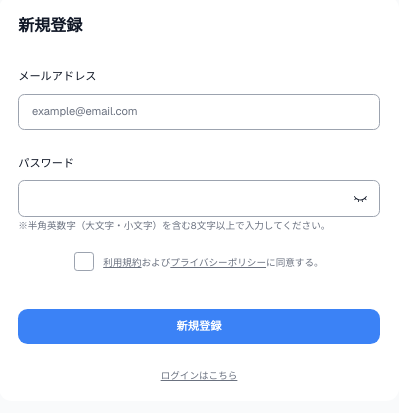
SignUpForm › 利用規約・プライバシーポリシーに同意せずに送信するとエラーメッセージが表示され、signUpActionは呼ばれない
The image size is (399, 413).
Type "valid@example.com" into the field labelled "メールアドレス" at (199, 112), box 18,94 -> 380,130
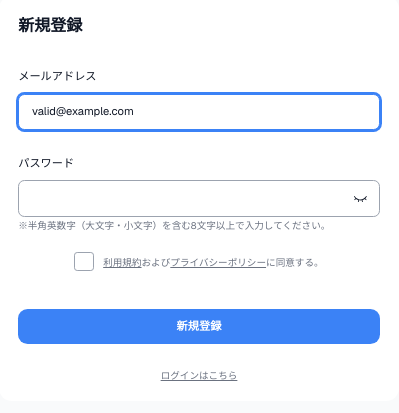
Type "Password1" into the password field labelled "パスワード" at (199, 198), box 18,180 -> 380,217
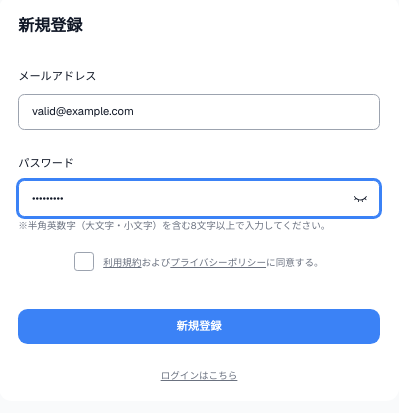
Click the button "新規登録" at (199, 327), box 18,309 -> 380,344
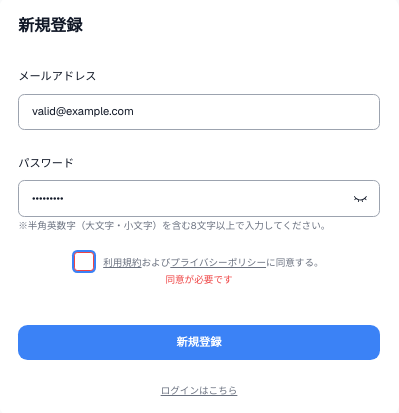
Expected: the text "同意が必要です" is shown, 165,273 -> 233,286
